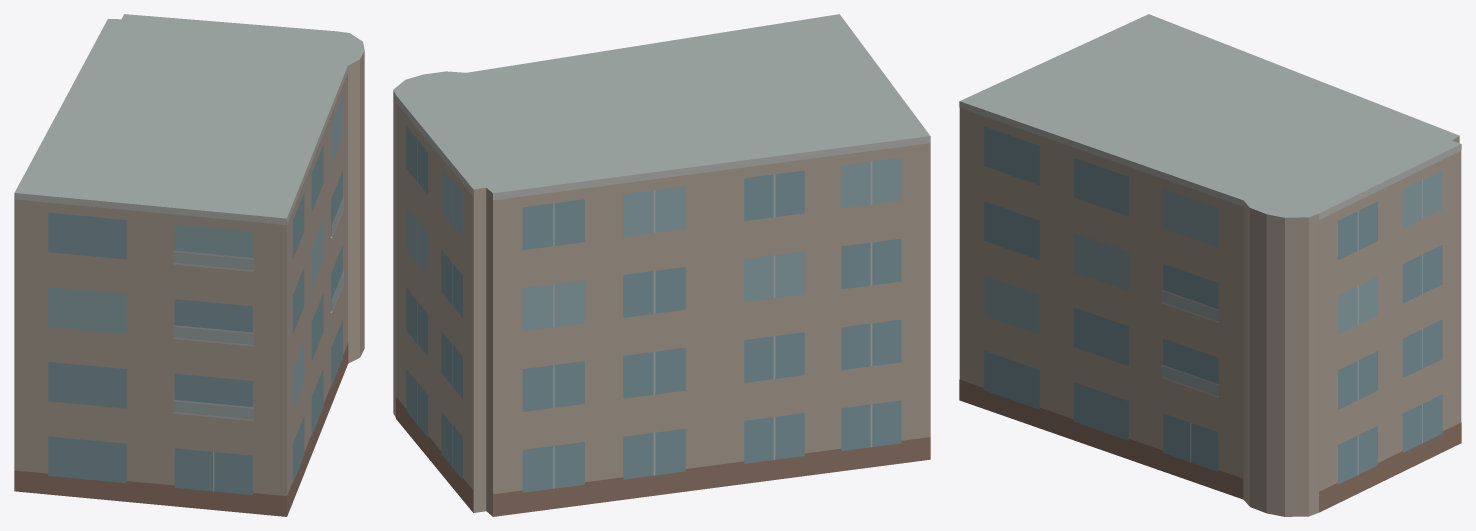
Rendered from survey-upis-32918783.glb.
3 views of the same model, side by side, from view 1: azimuth 30°, elevation 25°; view 2: azimuth 150°, elevation 25°; view 3: azimuth 270°, elevation 25° (orthographic). The views are drawn at different scales.
Visible parts, largest first — view 1: survey-upis-32918783.tmp; view 2: survey-upis-32918783.tmp; view 3: survey-upis-32918783.tmp.
Boxes of the visible parts, <box> form: survey-upis-32918783.tmp: <box>14,14,364,516</box>; survey-upis-32918783.tmp: <box>393,14,930,516</box>; survey-upis-32918783.tmp: <box>959,14,1461,516</box>.
Size of the model in its own units: 16.37 by 11.2 by 17.04.
